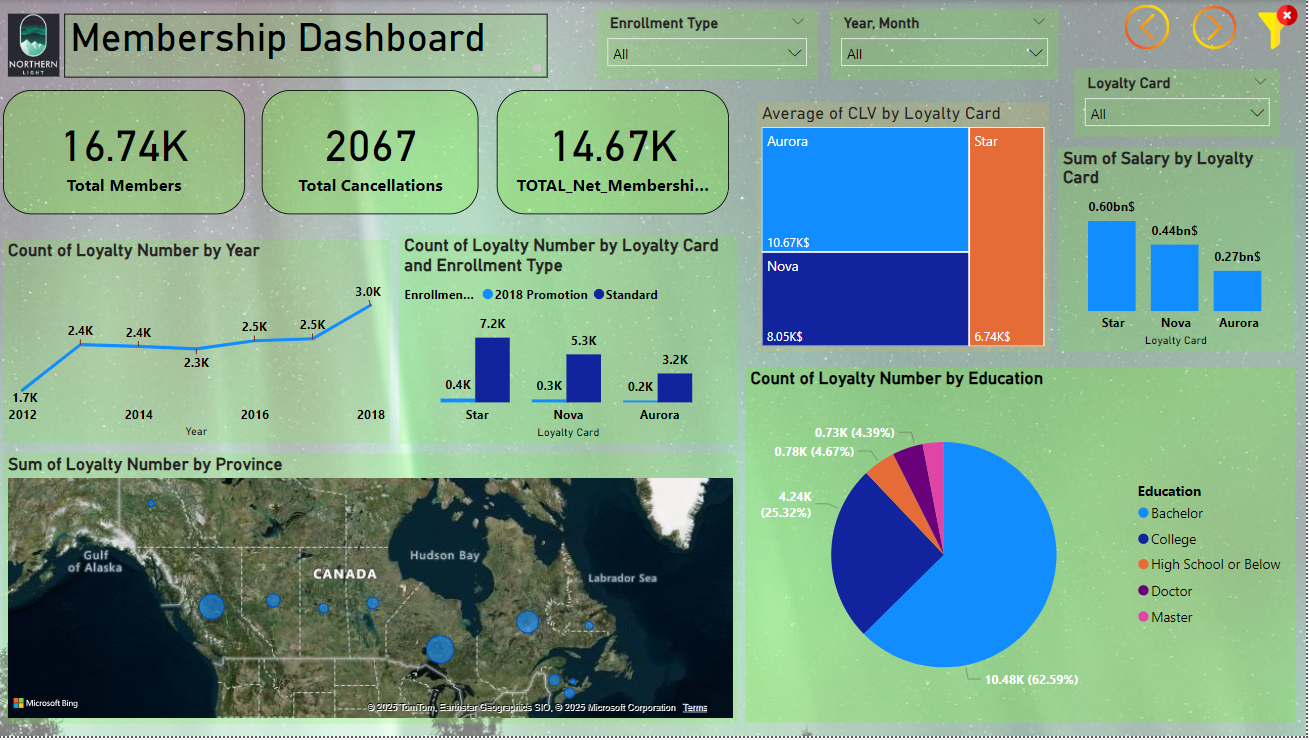

Layout of this report page (visuals, bound fields, positions):
{"tool":"powerbi","page":{"name":"Membership insights","canvas":[1280,720],"ordinal":1},"visuals":[{"type":"lineChart","fields":{"Category":["Calendar.Date.Variation.Date Hierarchy.Year","Calendar.Date.Variation.Date Hierarchy.Month"],"Y":["CountNonNull(Customer Loyalty History.Loyalty Number)"]},"box":[5,235,378.8,198.8],"z":0},{"type":"pieChart","fields":{"Y":["CountNonNull(Customer Loyalty History.Loyalty Number)"],"Category":["Customer Loyalty History.Education"]},"box":[731.2,360,537.5,347.5],"z":1000},{"type":"map","fields":{"Category":["Customer Loyalty History.Province"],"Size":["Sum(Customer Loyalty History.Loyalty Number)"]},"box":[5,443.8,718.8,263.8],"z":2000},{"type":"slicer","fields":{"Values":["Calendar.Date.Variation.Date Hierarchy.Year","Calendar.Date.Variation.Date Hierarchy.Month"]},"box":[814.3,8.4,223.2,70],"z":3000},{"type":"clusteredColumnChart","fields":{"Category":["Customer Loyalty History.Loyalty Card"],"Y":["CountNonNull(Customer Loyalty History.Loyalty Number)"],"Series":["Customer Loyalty History.Enrollment Type"]},"box":[392.5,230,331.2,203.8],"z":4000},{"type":"image","box":[5,8.8,60,71.2],"z":5000},{"type":"textbox","title":"Membership Dashboard","box":[65.1,13.3,472.9,62.7],"z":6000},{"type":"treemap","fields":{"Values":["Avg(Customer Loyalty History.CLV)"],"Group":["Customer Loyalty History.Loyalty Card"]},"box":[742.5,100,286.2,243.8],"z":7000},{"type":"columnChart","fields":{"Category":["Customer Loyalty History.Loyalty Card"],"Y":["Sum(Customer Loyalty History.Salary)"]},"box":[1037.5,143.8,231.2,200],"z":8000},{"type":"slicer","fields":{"Values":["Customer Loyalty History.Enrollment Type"]},"box":[586.3,8.4,216,68.8],"z":9000},{"type":"slicer","fields":{"Values":["Customer Loyalty History.Loyalty Card"]},"box":[1052.5,67.5,201.2,66.2],"z":10000},{"type":"card","fields":{"Values":["Measure_Table.Total Members"]},"box":[4.8,88.1,236.5,121.9],"z":11000},{"type":"card","fields":{"Values":["Measure_Table.Total Cancellations"]},"box":[258.2,88.1,212.3,121.9],"z":12000},{"type":"card","fields":{"Values":["Measure_Table.TOTAL_Net_Membership_Growth"]},"box":[487.4,88.1,226.8,121.9],"z":13000},{"type":"image","box":[1164.2,0,51.9,53.1],"z":14000},{"type":"image","box":[1094.2,0,59.1,53.1],"z":15000},{"type":"image","box":[1224.5,0,55.5,53.1],"z":16000}]}

Visuals, with their boxes in screenshot pixels (x1, y1, x2, y2), scaled from the page's 1280x720 canvas onto the 1309x740 screenshot:
lineChart - Calendar.Date.Variation.Date Hierarchy.Year x Calendar.Date.Variation.Date Hierarchy.Month: [left=5, top=242, right=392, bottom=446]
pieChart - CountNonNull(Customer Loyalty History.Loyalty Number) x Customer Loyalty History.Education: [left=748, top=370, right=1297, bottom=727]
map - Customer Loyalty History.Province x Sum(Customer Loyalty History.Loyalty Number): [left=5, top=456, right=740, bottom=727]
slicer - Calendar.Date.Variation.Date Hierarchy.Year x Calendar.Date.Variation.Date Hierarchy.Month: [left=833, top=9, right=1061, bottom=81]
clusteredColumnChart - Customer Loyalty History.Loyalty Card x CountNonNull(Customer Loyalty History.Loyalty Number): [left=401, top=236, right=740, bottom=446]
image: [left=5, top=9, right=66, bottom=82]
"Membership Dashboard" textbox: [left=67, top=14, right=550, bottom=78]
treemap - Avg(Customer Loyalty History.CLV) x Customer Loyalty History.Loyalty Card: [left=759, top=103, right=1052, bottom=353]
columnChart - Customer Loyalty History.Loyalty Card x Sum(Customer Loyalty History.Salary): [left=1061, top=148, right=1297, bottom=353]
slicer - Customer Loyalty History.Enrollment Type: [left=600, top=9, right=820, bottom=79]
slicer - Customer Loyalty History.Loyalty Card: [left=1076, top=69, right=1282, bottom=137]
card - Measure_Table.Total Members: [left=5, top=91, right=247, bottom=216]
card - Measure_Table.Total Cancellations: [left=264, top=91, right=481, bottom=216]
card - Measure_Table.TOTAL_Net_Membership_Growth: [left=498, top=91, right=730, bottom=216]
image: [left=1191, top=0, right=1244, bottom=55]
image: [left=1119, top=0, right=1179, bottom=55]
image: [left=1252, top=0, right=1308, bottom=55]
